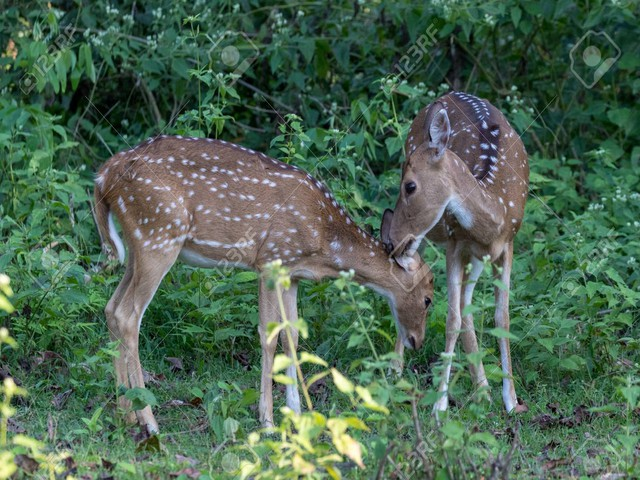deer: (76, 115, 379, 445), (388, 87, 548, 419)
